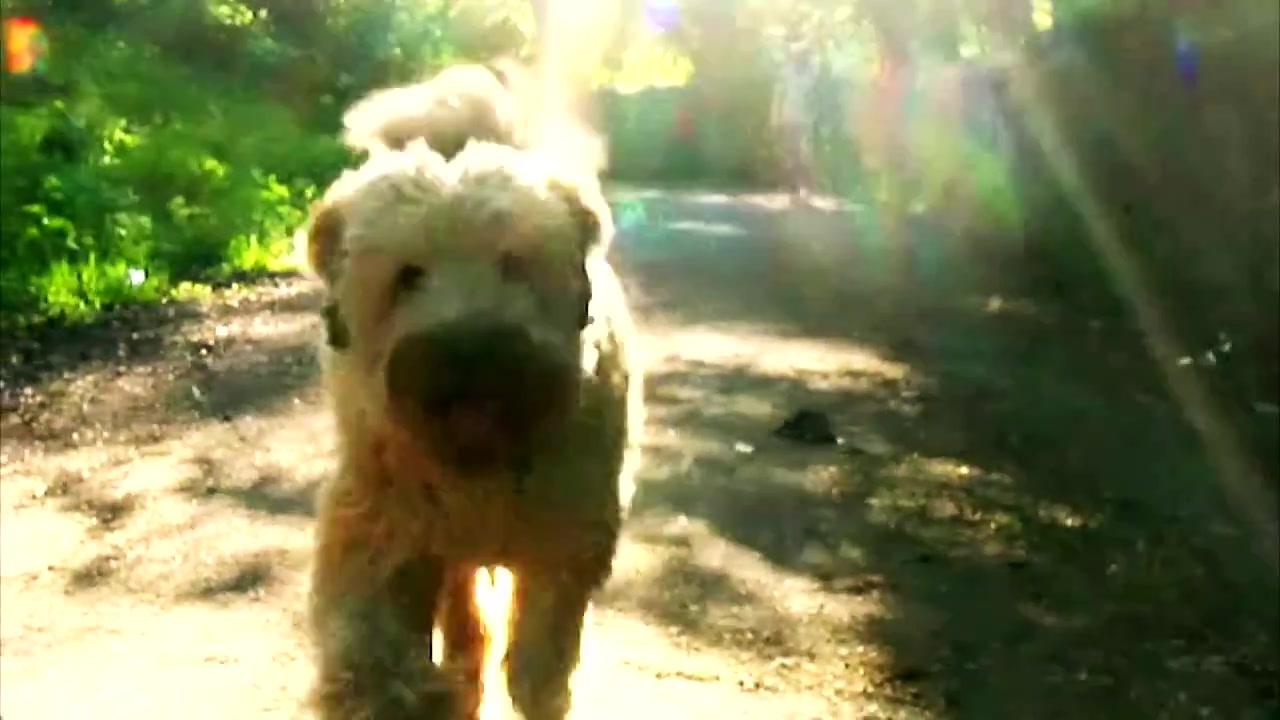dog: (294, 65, 649, 720)
